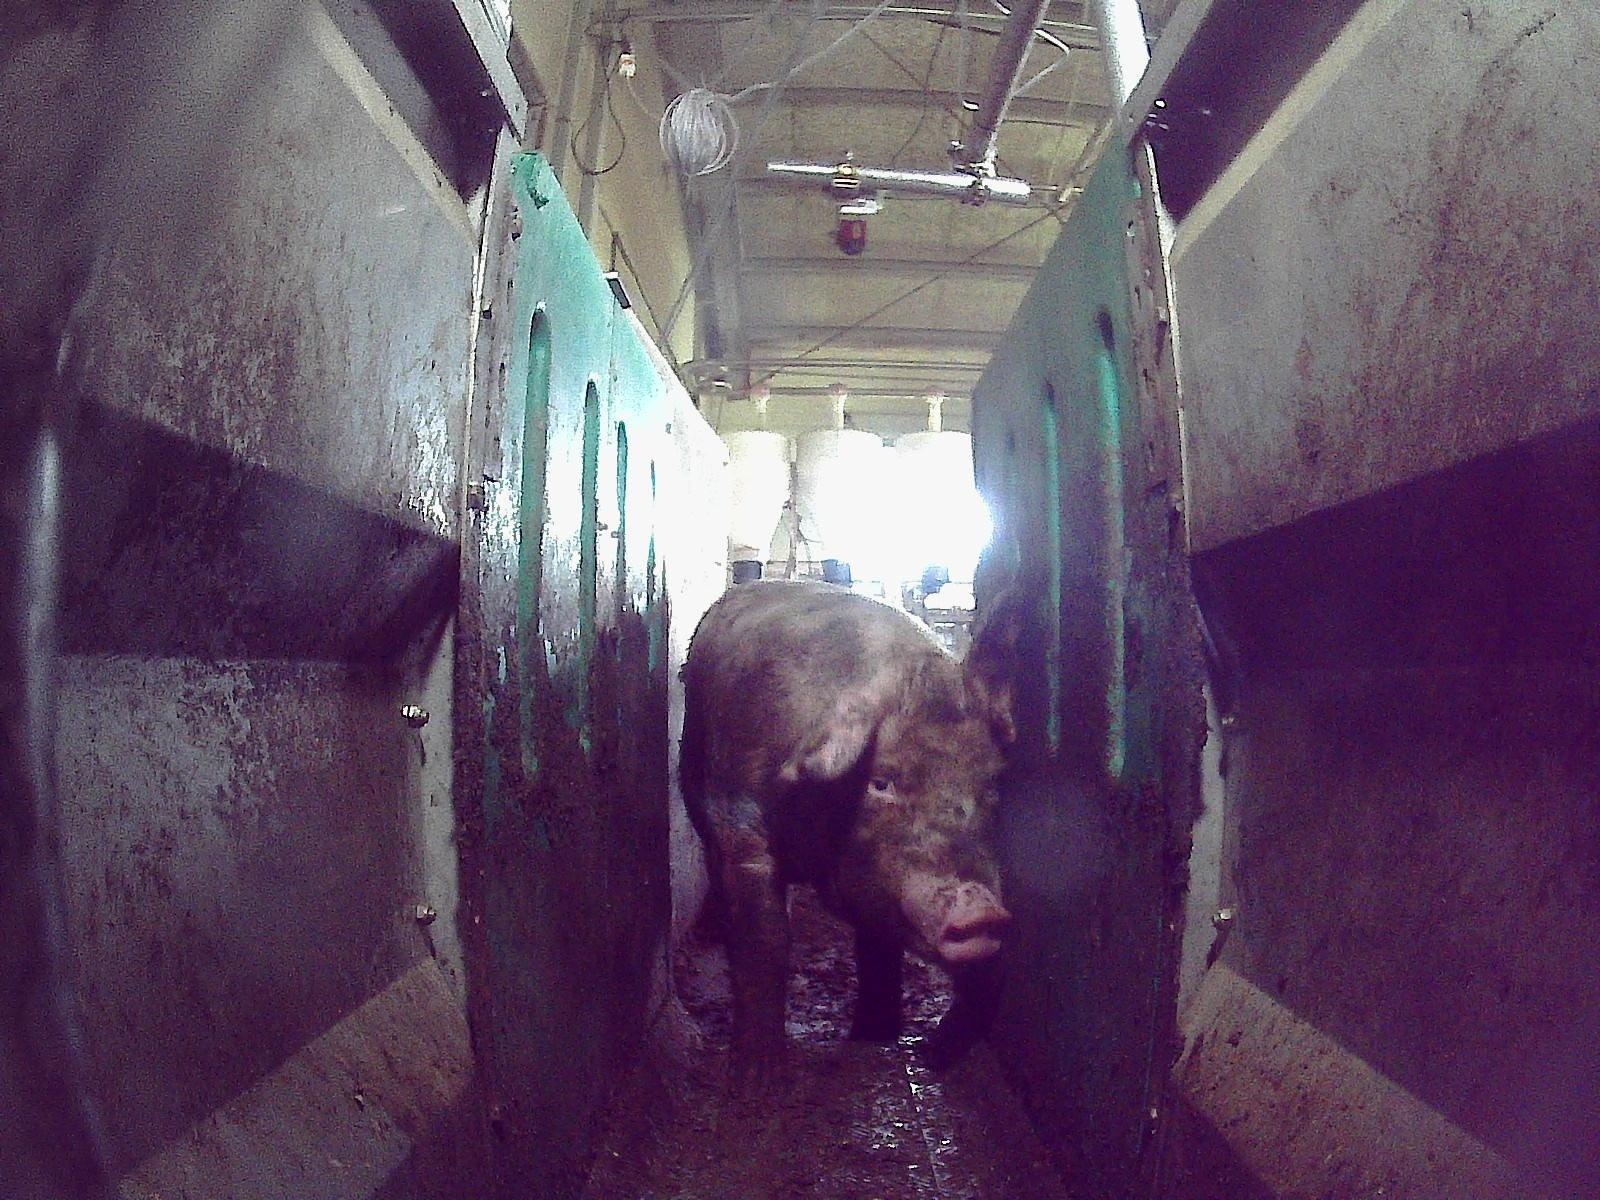Face: (831, 693, 1013, 960)
